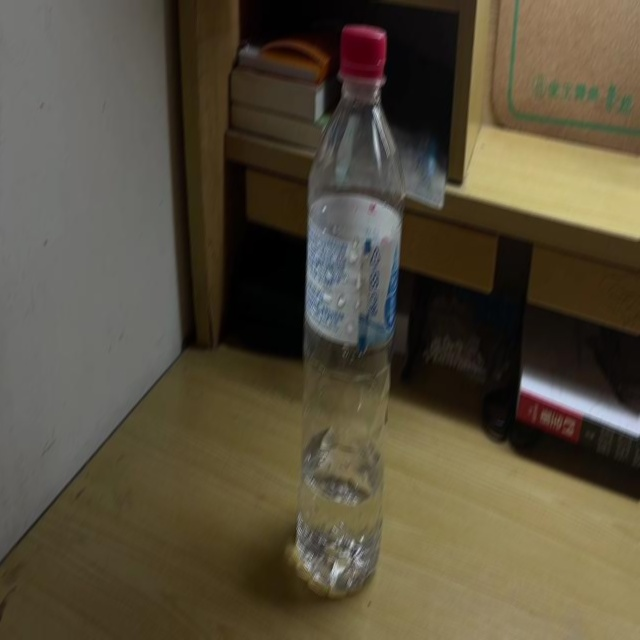Water: (296, 22, 406, 600)
